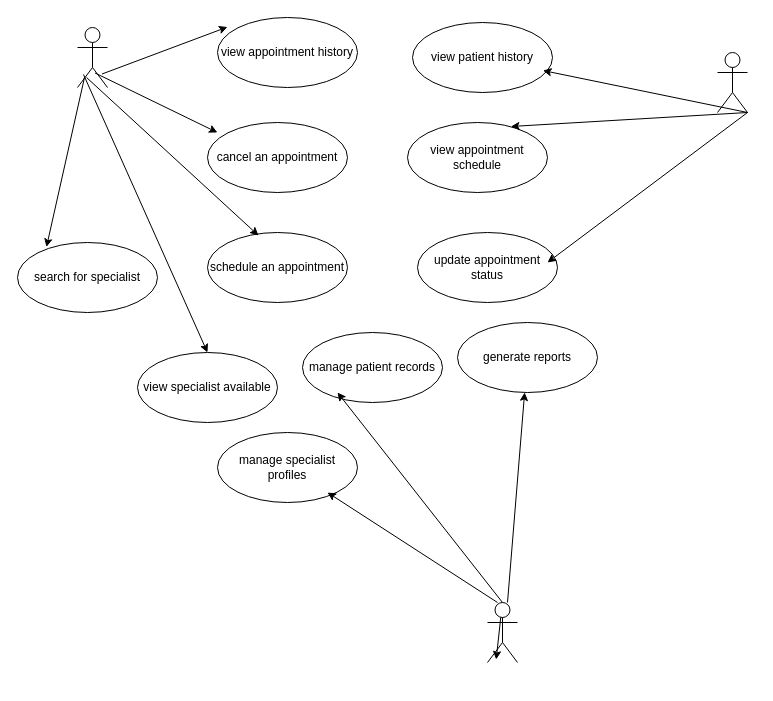
This 773x701 diagram has some shape labels left out. Each missing label, with the centre of its shape:
"Admin" belongs at pixel 502 632.
"patient" belongs at pixel 92 57.
"specialis" belongs at pixel 732 82.
